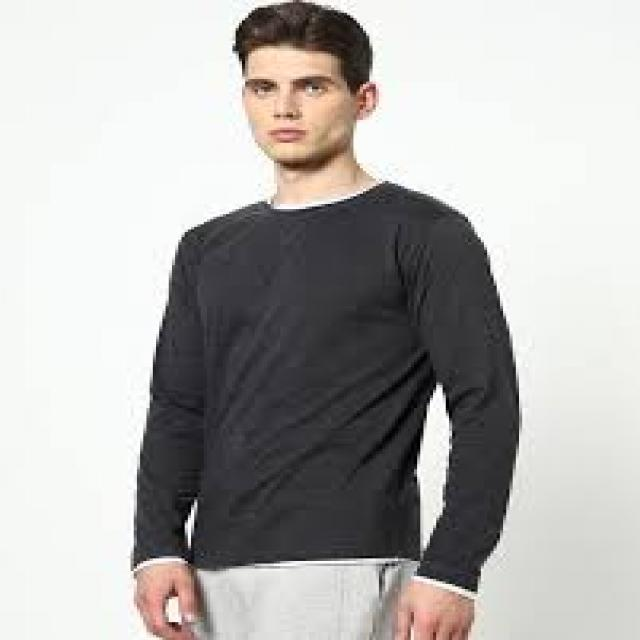plain: (115, 202, 528, 582)
